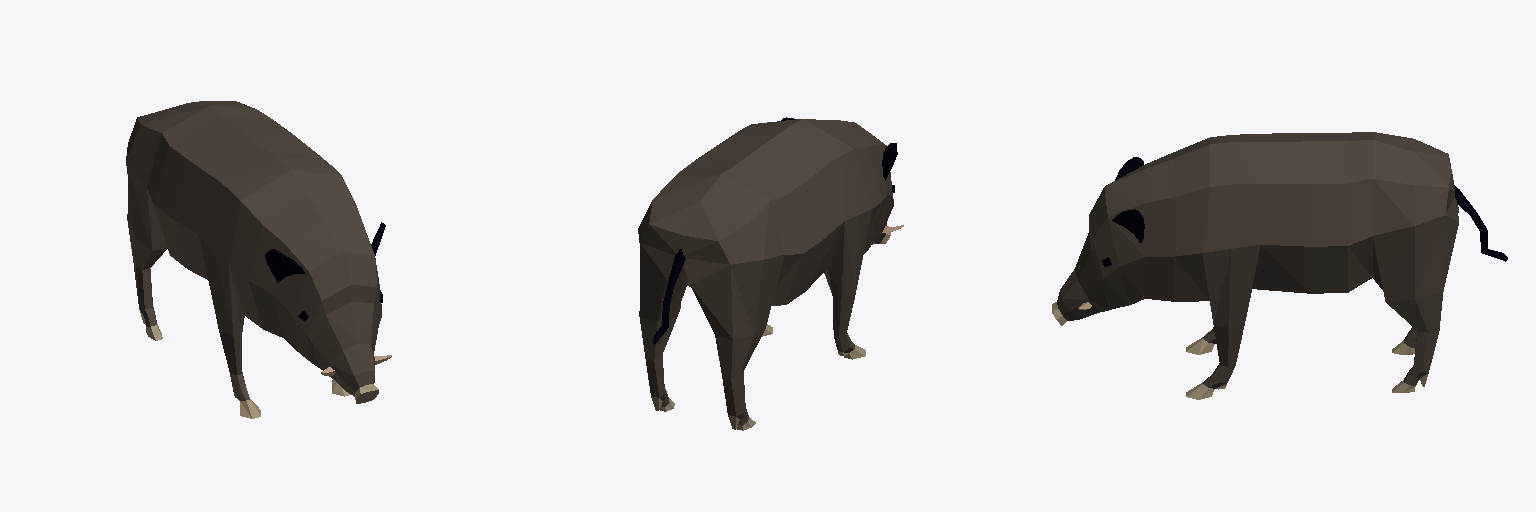
The picture shows the model from 3 angles: view 1: azimuth 30°, elevation 25°; view 2: azimuth 150°, elevation 25°; view 3: azimuth 270°, elevation 25°; orthographic projection.
Visible parts, largest first — view 1: Geo_Boar; view 2: Geo_Boar; view 3: Geo_Boar.
Boxes of the visible parts, x1,y1,x2,y2 form: Geo_Boar: [126, 101, 391, 418]; Geo_Boar: [638, 117, 903, 430]; Geo_Boar: [1052, 132, 1507, 399].
Size of the model in its own units: 58.24 by 94.19 by 168.
Materials: 1 (1 with a texture image).